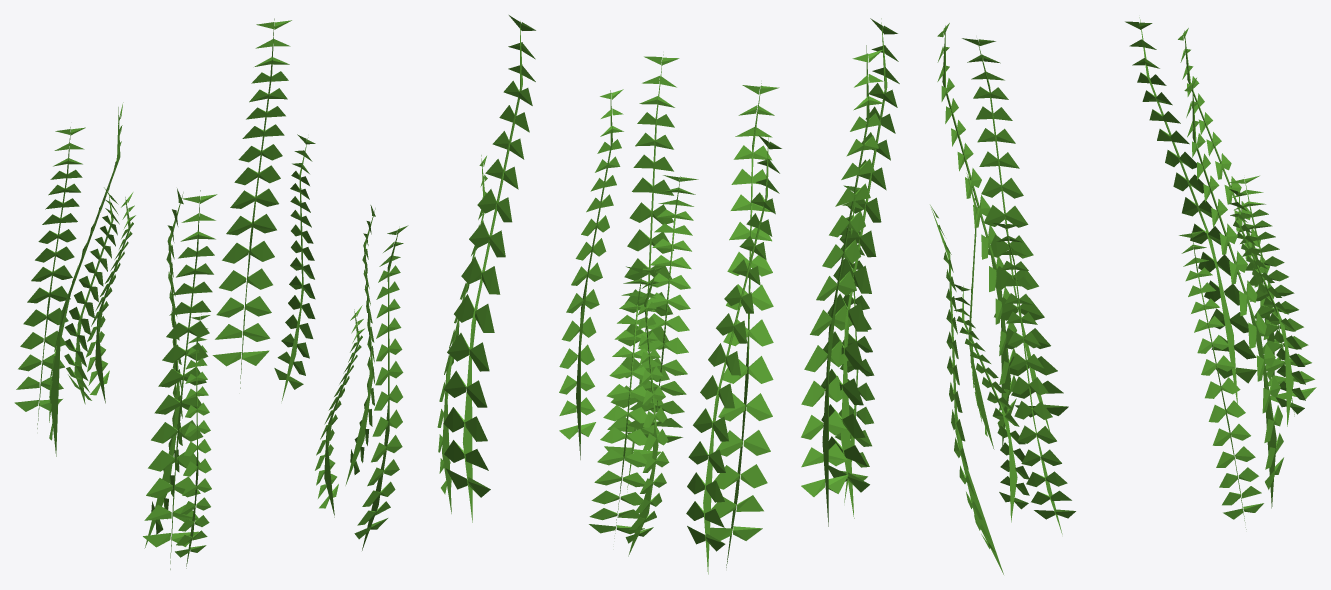
Rendered from OceanLeafs.gltf.
3 renders of one model, left to right at view 1: azimuth 30°, elevation 25°; view 2: azimuth 150°, elevation 25°; view 3: azimuth 270°, elevation 25°, orthographic. The views are drawn at different scales.
Parts seen in each view (by area): view 1: sealeaf01.006, sealeaf01.011, sealeaf01.012, sealeaf01.002, sealeaf01.010, sealeaf01, sealeaf01.032, sealeaf01.001, sealeaf01.037, sealeaf01.033, sealeaf01.007, sealeaf01.036; view 2: sealeaf01.006, sealeaf01.007, sealeaf01.001, sealeaf01.012, sealeaf01.011, sealeaf01.002, sealeaf01.036, sealeaf01.033, sealeaf01.037, sealeaf01.032, sealeaf01, sealeaf01.010; view 3: sealeaf01.001, sealeaf01.007, sealeaf01.036, sealeaf01.006, sealeaf01.010, sealeaf01.011, sealeaf01.032, sealeaf01.037, sealeaf01.033, sealeaf01.002, sealeaf01.012, sealeaf01.
Part boxes in pixels (x1,y1,x2,y2): sealeaf01.006: [212, 18, 291, 388]; sealeaf01.011: [143, 190, 217, 569]; sealeaf01.012: [14, 127, 85, 428]; sealeaf01.002: [354, 225, 408, 550]; sealeaf01.010: [274, 134, 315, 401]; sealeaf01: [175, 314, 211, 568]; sealeaf01.032: [64, 187, 119, 404]; sealeaf01.001: [144, 188, 183, 548]; sealeaf01.037: [315, 305, 364, 517]; sealeaf01.033: [86, 192, 135, 403]; sealeaf01.007: [49, 102, 123, 456]; sealeaf01.036: [345, 205, 375, 485]; sealeaf01.006: [443, 15, 535, 522]; sealeaf01.007: [710, 83, 779, 567]; sealeaf01.001: [801, 45, 883, 526]; sealeaf01.012: [686, 135, 781, 574]; sealeaf01.011: [821, 18, 899, 518]; sealeaf01.002: [604, 54, 679, 489]; sealeaf01.036: [559, 89, 623, 459]; sealeaf01.033: [589, 266, 660, 538]; sealeaf01.037: [627, 175, 698, 449]; sealeaf01.032: [625, 266, 669, 556]; sealeaf01: [835, 185, 874, 502]; sealeaf01.010: [437, 155, 487, 513]; sealeaf01.001: [962, 38, 1068, 431]; sealeaf01.007: [1125, 17, 1257, 403]; sealeaf01.036: [993, 222, 1075, 534]; sealeaf01.006: [1184, 78, 1283, 508]; sealeaf01.010: [1179, 230, 1263, 529]; sealeaf01.011: [937, 23, 1016, 445]; sealeaf01.032: [1228, 175, 1316, 416]; sealeaf01.037: [954, 284, 1029, 522]; sealeaf01.033: [1229, 188, 1305, 426]; sealeaf01.002: [930, 205, 1003, 574]; sealeaf01.012: [1178, 28, 1280, 379]; sealeaf01: [966, 170, 994, 449].
Size of the model in its own units: 9.02 by 14.99 by 10.51.
